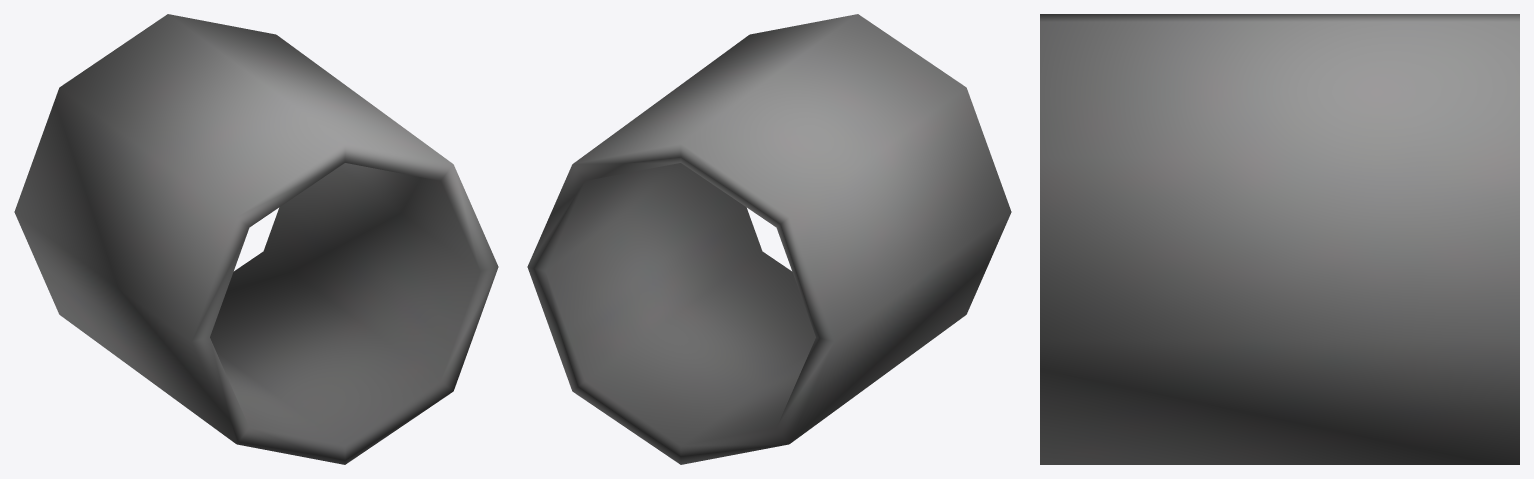
The model's file is TubeEng.fbx.
3 renders of one model, left to right at view 1: azimuth 30°, elevation 25°; view 2: azimuth 150°, elevation 25°; view 3: azimuth 270°, elevation 25°, orthographic. The views are drawn at different scales.
Visible parts, largest first — view 1: TubeEng; view 2: TubeEng; view 3: TubeEng.
Boxes of the visible parts, x1,y1,x2,y2 form: TubeEng: (14,14,498,464); TubeEng: (527,14,1011,464); TubeEng: (1040,14,1519,464).
Size of the model in its own units: 56.89 by 56.89 by 56.89.
1 material, 1 textured.
